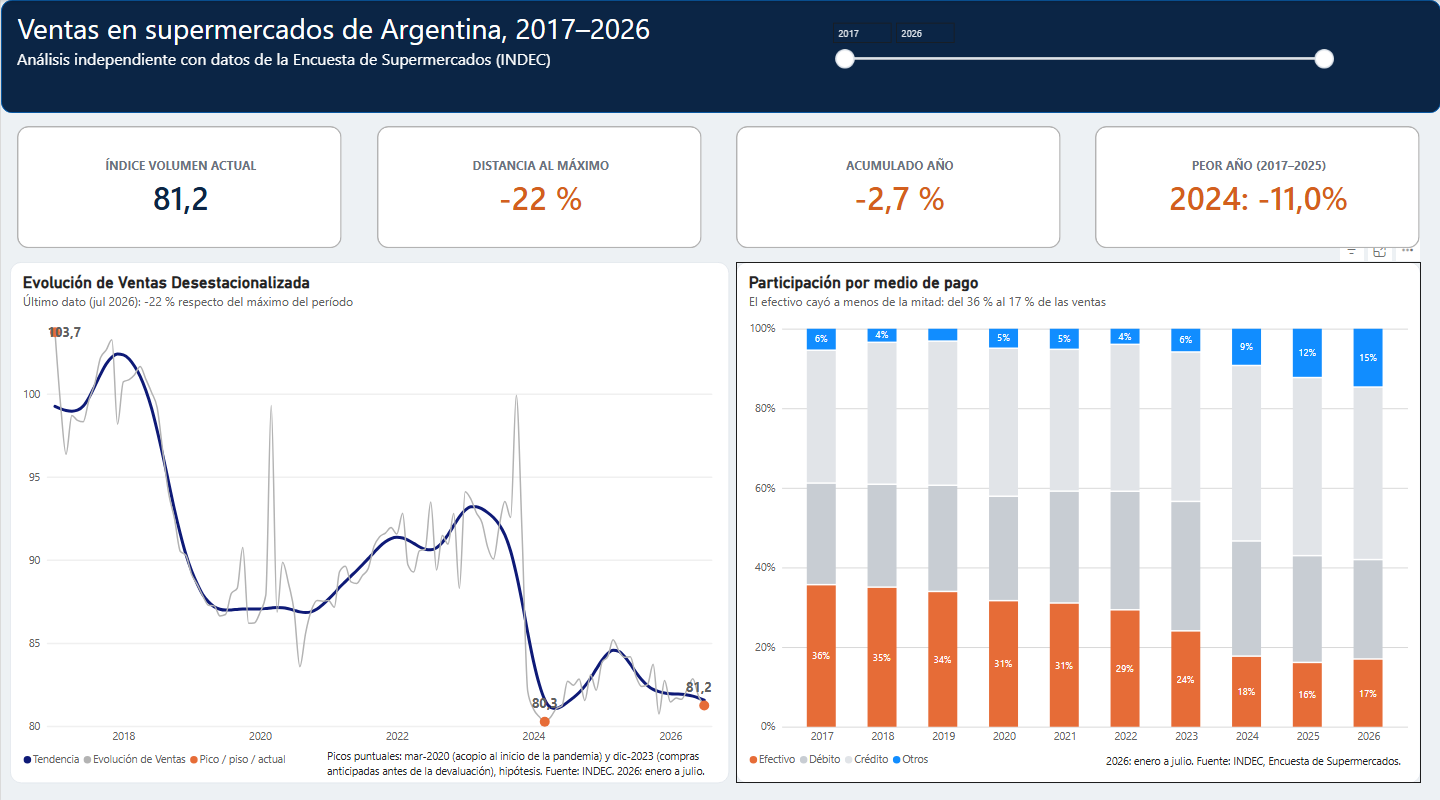

This screenshot's page, from the dashboard's own definition file:
{"tool":"powerbi","page":{"name":"Página 1","canvas":[1920,1080],"ordinal":0},"visuals":[{"type":"shape","box":[0,0,1920,1069.3],"z":0},{"type":"shape","box":[13.3,160,1682.7,893.3],"z":1000},{"type":"shape","box":[225.3,160,1682.7,893.3],"z":2000},{"type":"lineChart","title":"Evolución de Ventas Desestacionalizada","fields":{"Category":["super dim_periodo.periodo"],"Y":["Avg(super fact_indices.idx_tendencia)","Avg(super fact_indices.idx_desest)","super fact_indices.Marcas desest"]},"box":[432,173.3,1461.3,416],"z":3000},{"type":"slicer","title":"Medios de Pago","fields":{"Values":["super fact_ventas_medio_pago.medio_pago"]},"box":[21.3,412,193.3,86.7],"z":3000},{"type":"slicer","title":"Canales","fields":{"Values":["super fact_ventas_canal.canal"]},"box":[21.3,300,192,97.3],"z":4000},{"type":"hundredPercentStackedColumnChart","title":"Participación por medio de pago","fields":{"Category":["super dim_periodo.anio"],"Series":["super fact_ventas_medio_pago.medio_pago"],"Y":["super fact_ventas_medio_pago.% medio de pago"]},"box":[432,600,1461.3,444],"z":4000},{"type":"slicer","title":"Años","fields":{"Values":["super dim_periodo.anio"]},"box":[21.3,185.3,190.7,100],"z":5000},{"type":"textbox","box":[1381.3,544,526.7,66.7],"z":5000},{"type":"slicer","title":"Categorías","fields":{"Values":["super dim_categoria.nombre"]},"box":[21.3,513.3,190.7,128],"z":6000},{"type":"textbox","box":[21.3,64,1080,66.7],"z":7000},{"type":"textbox","box":[1473.3,1005.3,419.6,32.3],"z":7000},{"type":"cardVisual","title":"Ultima","fields":{"Data":["super fact_indices.Indice Actual"]},"box":[242.7,173.3,174.7,114.7],"z":8000},{"type":"cardVisual","title":"Ultima","fields":{"Data":["super fact_indices.Distancia al Máximo"]},"box":[242.7,297.3,174.7,114.7],"z":9000},{"type":"cardVisual","title":"Ultima","fields":{"Data":["super fact_indices.Primera"]},"box":[242.7,425.3,174.7,114.7],"z":12000}]}

Visuals, with their boxes in screenshot pixels (x1, y1, x2, y2), scaled from the page's 1920x1080 canvas onto the 1440x800 screenshot:
shape: BBox(0, 0, 1439, 792)
shape: BBox(10, 119, 1272, 780)
shape: BBox(169, 119, 1431, 780)
"Evolución de Ventas Desestacionalizada" lineChart: BBox(324, 128, 1420, 437)
"Medios de Pago" slicer: BBox(16, 305, 161, 369)
"Canales" slicer: BBox(16, 222, 160, 294)
"Participación por medio de pago" hundredPercentStackedColumnChart: BBox(324, 444, 1420, 773)
"Años" slicer: BBox(16, 137, 159, 211)
textbox: BBox(1036, 403, 1431, 452)
"Categorías" slicer: BBox(16, 380, 159, 475)
textbox: BBox(16, 47, 826, 97)
textbox: BBox(1105, 745, 1420, 769)
"Ultima" cardVisual: BBox(182, 128, 313, 213)
"Ultima" cardVisual: BBox(182, 220, 313, 305)
"Ultima" cardVisual: BBox(182, 315, 313, 400)
